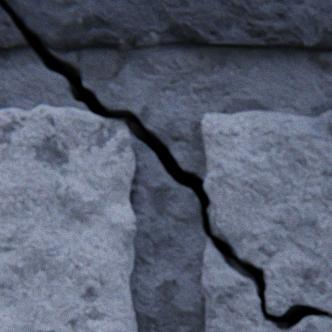brick: (0, 106, 137, 331)
broken_brick: (201, 111, 331, 331), (5, 0, 331, 54), (0, 0, 30, 53)
crack: (1, 0, 330, 329)
